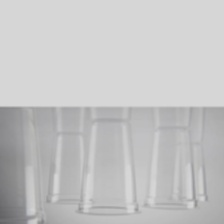glass: (72, 116, 144, 220), (0, 103, 46, 224), (140, 123, 196, 213), (40, 129, 94, 207), (166, 138, 212, 209)
